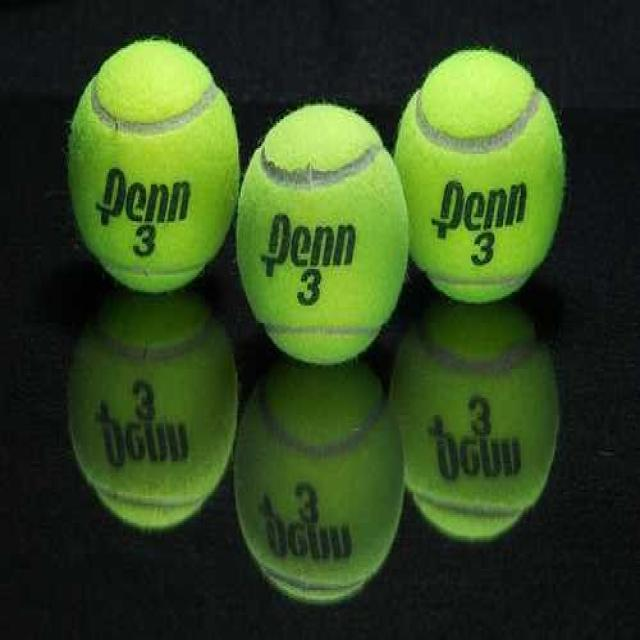Tennis_Ball: (230, 104, 410, 366), (394, 44, 563, 309), (66, 44, 234, 299)
